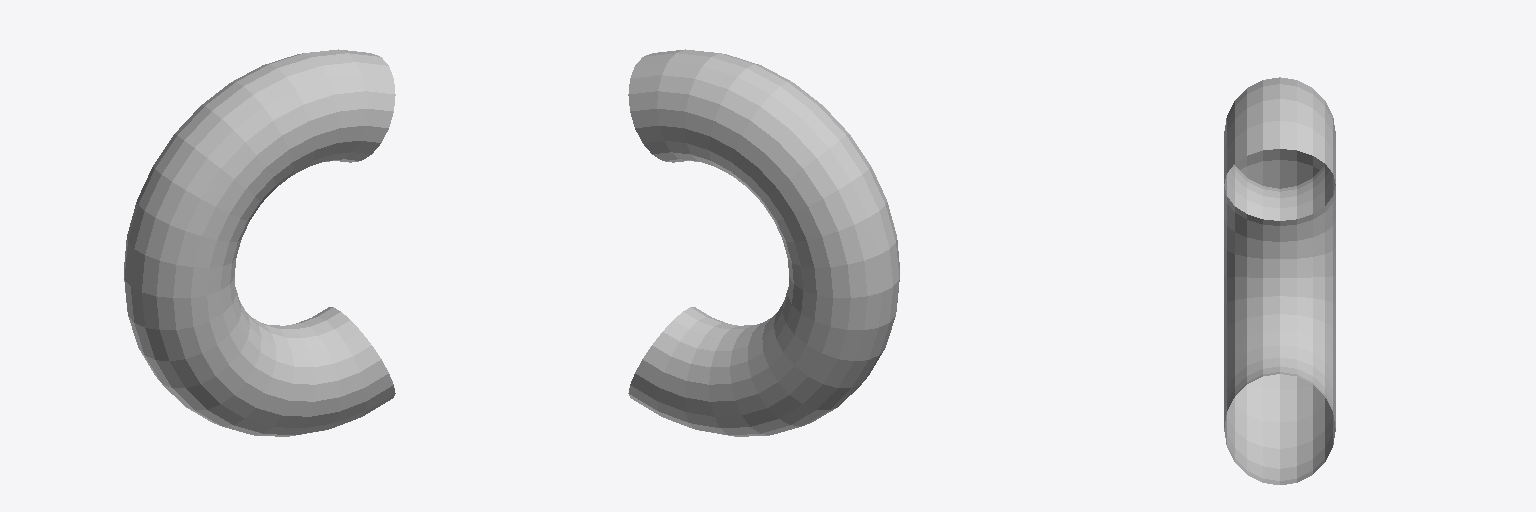
The model's file is pipe.obj.
The picture shows the model from 3 angles: view 1: azimuth 30°, elevation 25°; view 2: azimuth 150°, elevation 25°; view 3: azimuth 270°, elevation 25°; orthographic projection.
Parts seen in each view (by area): view 1: pCylinder1; view 2: pCylinder1; view 3: pCylinder1.
Part boxes in pixels (left/top/right/bottom): pCylinder1: left=124, top=49, right=395, bottom=436; pCylinder1: left=628, top=49, right=899, bottom=436; pCylinder1: left=1224, top=77, right=1335, bottom=484.
Bounding box in the file's own units: 7.77 × 10.97 × 3.